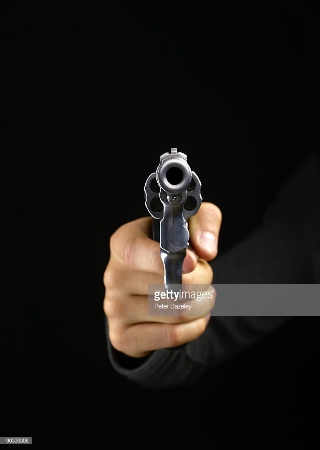handgun: (142, 139, 204, 295)
